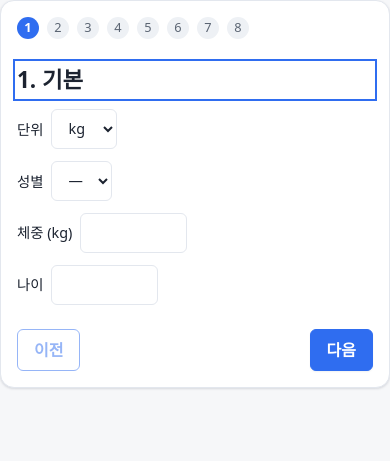
Scenario: Wizard › starts at step 1 and advances
The width and height of the screenshot is (390, 461).
Expected: the heading "1. 기본" is shown, [17,64,83,95]
Step 1. Click the button "다음" → (341, 350), box [310,329,373,371]
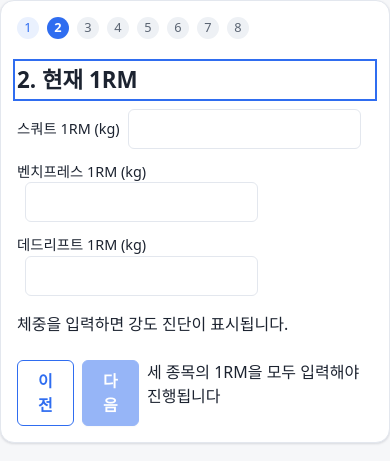
Expected: the heading "2. 현재 1RM" is shown, [17,64,138,95]
